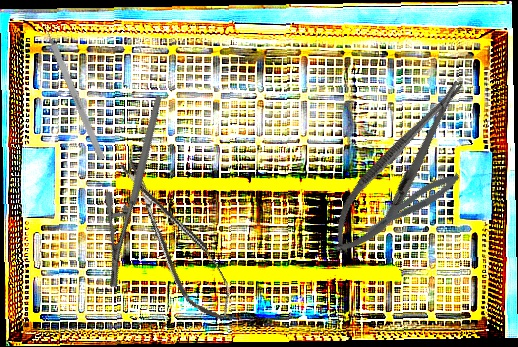Hook Surgical: (38, 16, 106, 161)
Micro Scissor: (111, 149, 242, 330), (351, 167, 465, 245)
Needle Holder: (54, 94, 219, 291), (318, 68, 481, 267)
